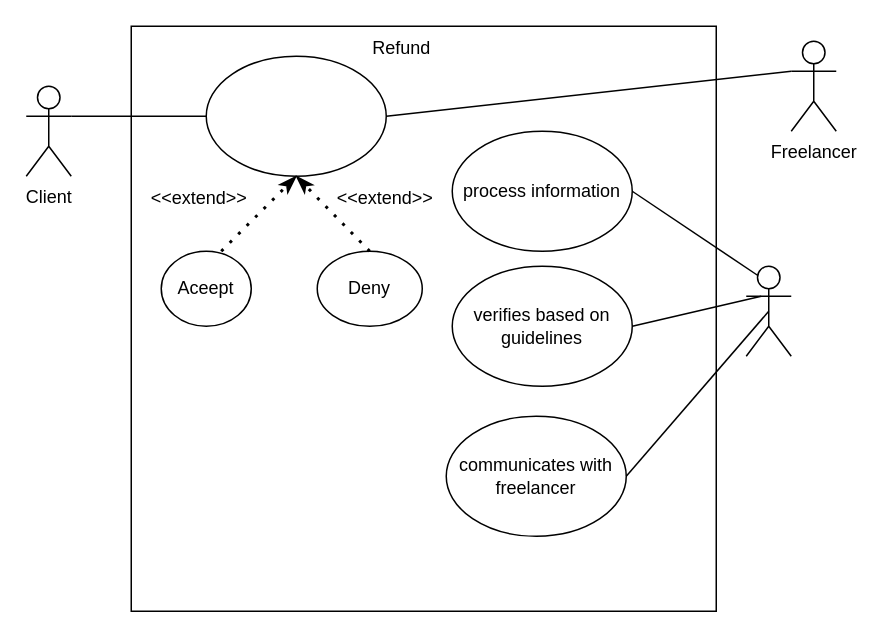
The diagram is 882 pixels wide and 638 high, and some of its shapes have lost their labels. The centre of each missing label's shape, as x and y in pixels:
Database: the point at 768,310
requests refund with complaint: the point at 295,115
